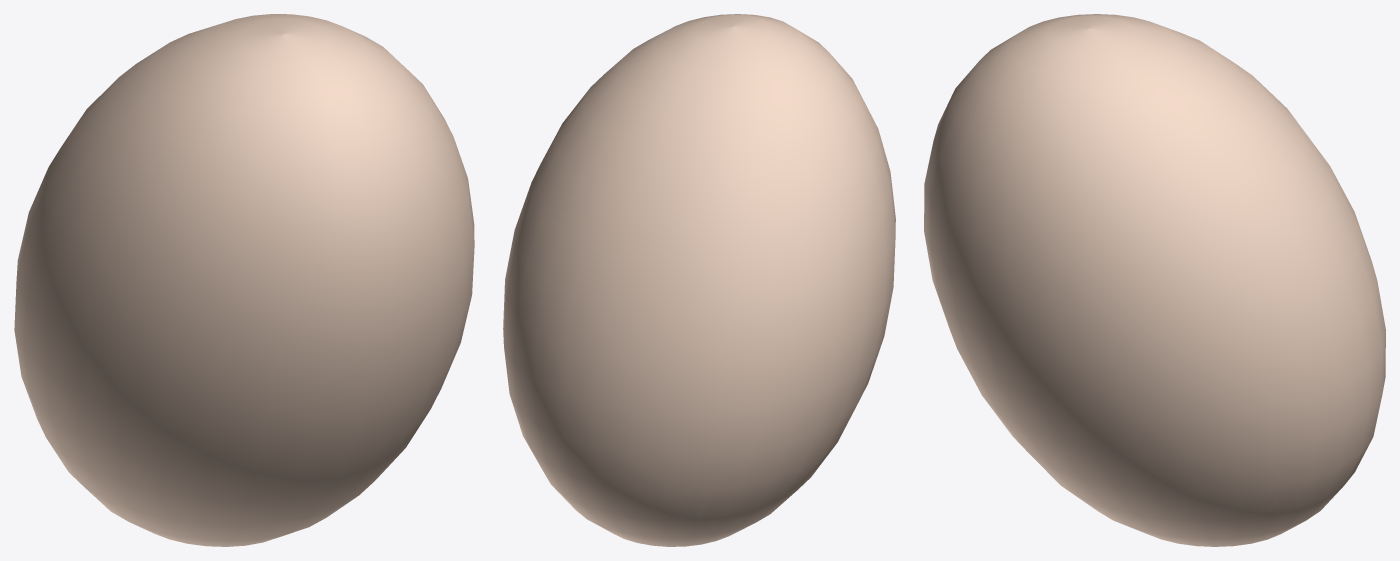
The model's file is female_nose_ref01_v5.glb.
The picture shows the model from 3 angles, left to right: view 1: azimuth 30°, elevation 25°; view 2: azimuth 150°, elevation 25°; view 3: azimuth 270°, elevation 25°; orthographic projection. The views are drawn at different scales.
Parts seen in each view (by area): view 1: Nose_Tip; view 2: Nose_Tip; view 3: Nose_Tip.
Boxes of the visible parts, x1=… form: Nose_Tip: x1=14, y1=14, x2=474, y2=546; Nose_Tip: x1=503, y1=14, x2=895, y2=546; Nose_Tip: x1=924, y1=14, x2=1385, y2=546.
Size of the model in its own units: 0.03 by 0.04 by 0.0332.
